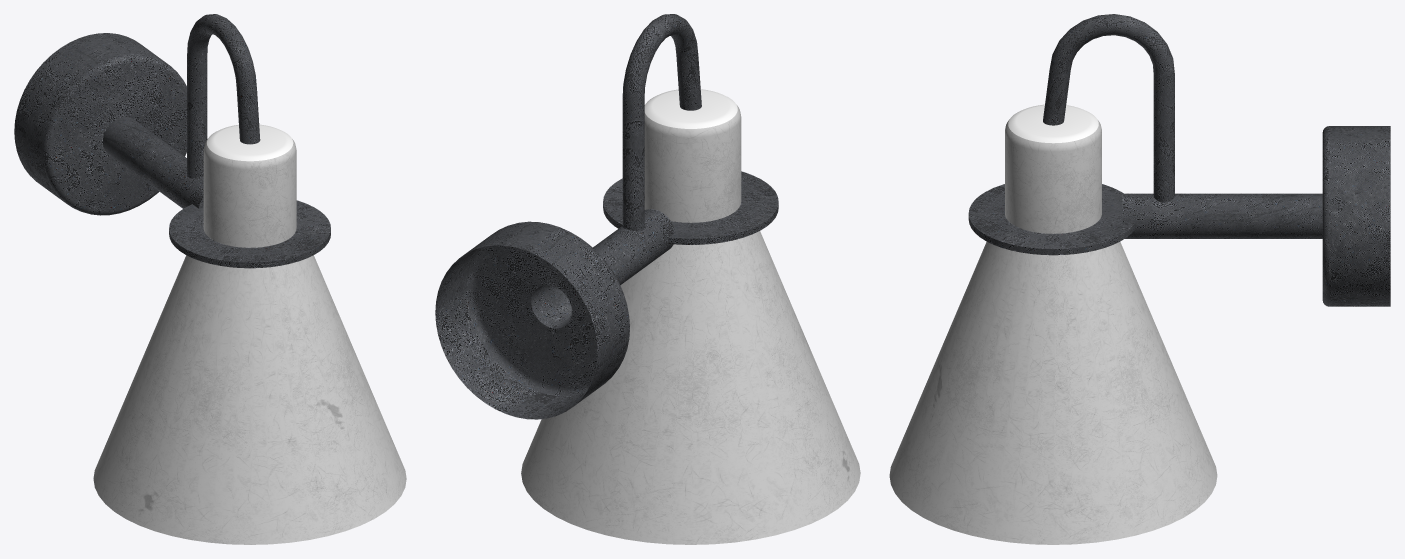
File: WallLamp2.glb
The picture shows the model from 3 angles, left to right: view 1: azimuth 30°, elevation 25°; view 2: azimuth 150°, elevation 25°; view 3: azimuth 270°, elevation 25°; orthographic projection. The views are drawn at different scales.
Parts seen in each view (by area): view 1: argon_4704.001, argon_4704.003; view 2: argon_4704.001, argon_4704.003; view 3: argon_4704.001, argon_4704.003.
Part boxes in pixels (box(x1,y1,x2,y2)): argon_4704.001: box(93, 139, 406, 544); argon_4704.003: box(14, 14, 330, 268); argon_4704.001: box(521, 105, 860, 544); argon_4704.003: box(435, 14, 778, 419); argon_4704.001: box(889, 119, 1217, 544); argon_4704.003: box(968, 14, 1390, 306).
Bounding box in the file's own units: 0.145 × 0.2255 × 0.2215.
5 materials, 3 textured.
